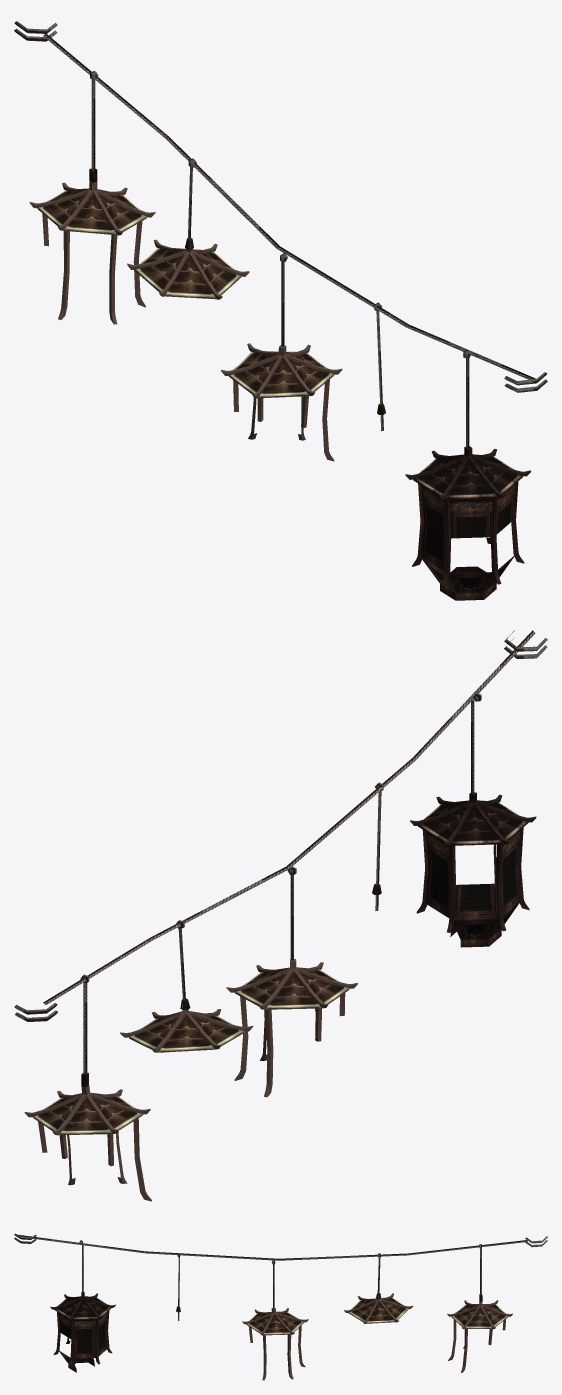
File: TW2_9_ADDONS_12_10_3-transformed.glb
3 views of the same model, one above another, from view 1: azimuth 30°, elevation 25°; view 2: azimuth 150°, elevation 25°; view 3: azimuth 270°, elevation 25° (orthographic). The views are drawn at different scales.
Parts seen in each view (by area): view 1: default; view 2: default; view 3: default.
Boxes of the visible parts, x1=… form: default: x1=14, y1=21, x2=547, y2=600; default: x1=14, y1=630, x2=547, y2=1201; default: x1=14, y1=1233, x2=547, y2=1380.
Bounding box in the file's own units: 0.5588 × 1.35 × 4.72.
2 materials, 2 textured.
